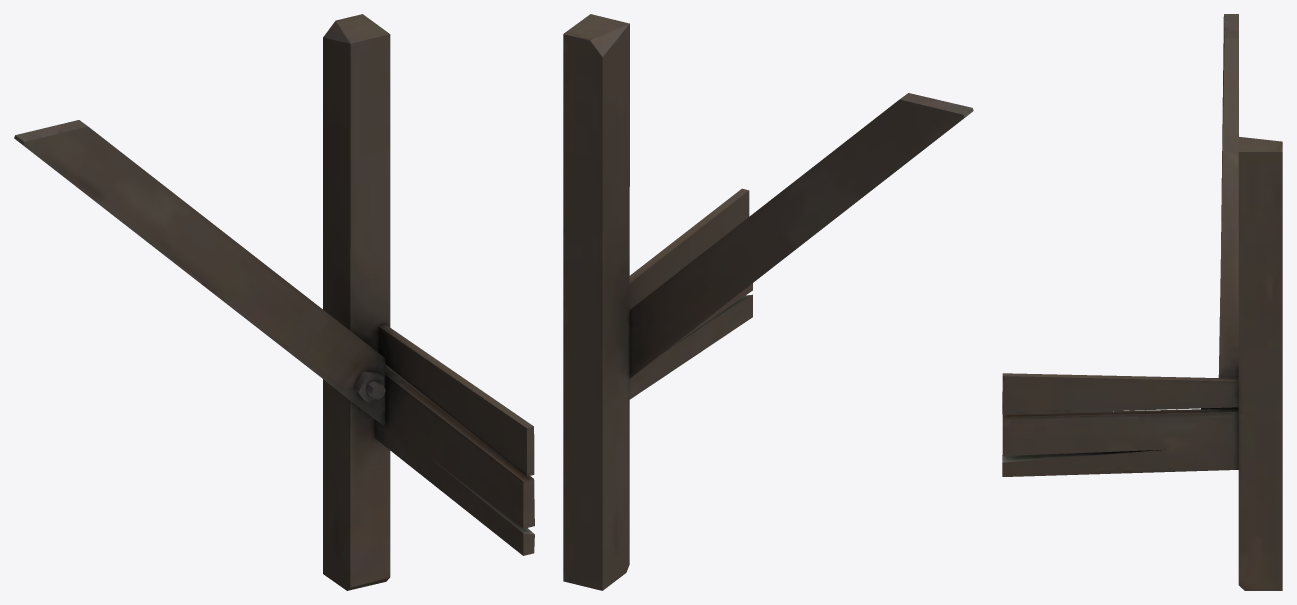
3 views of the same model, side by side, from view 1: azimuth 30°, elevation 25°; view 2: azimuth 150°, elevation 25°; view 3: azimuth 270°, elevation 25° (orthographic). The views are drawn at different scales.
Visible parts, largest first — view 1: body0_model0_lod0_mesh0; view 2: body0_model0_lod0_mesh0; view 3: body0_model0_lod0_mesh0.
Part boxes in pixels (bbox=[...]): body0_model0_lod0_mesh0: bbox=[14, 14, 534, 590]; body0_model0_lod0_mesh0: bbox=[563, 14, 973, 590]; body0_model0_lod0_mesh0: bbox=[1002, 14, 1282, 590].
Bounding box in the file's own units: 90.23 × 126 × 73.02.
1 material, 1 textured.
